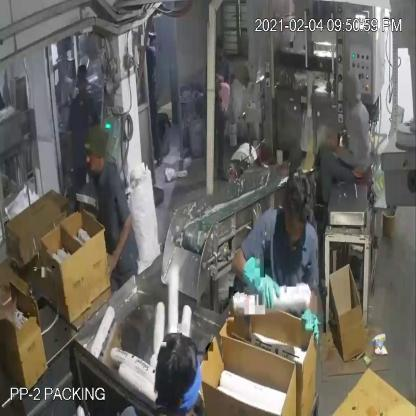glove: (233, 252, 283, 315)
no_glove: (98, 207, 141, 282), (0, 293, 27, 337)
